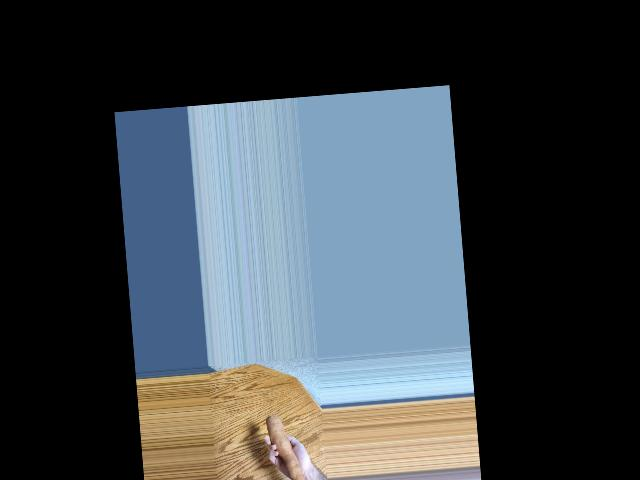sweet_potato: (264, 411, 308, 480)
